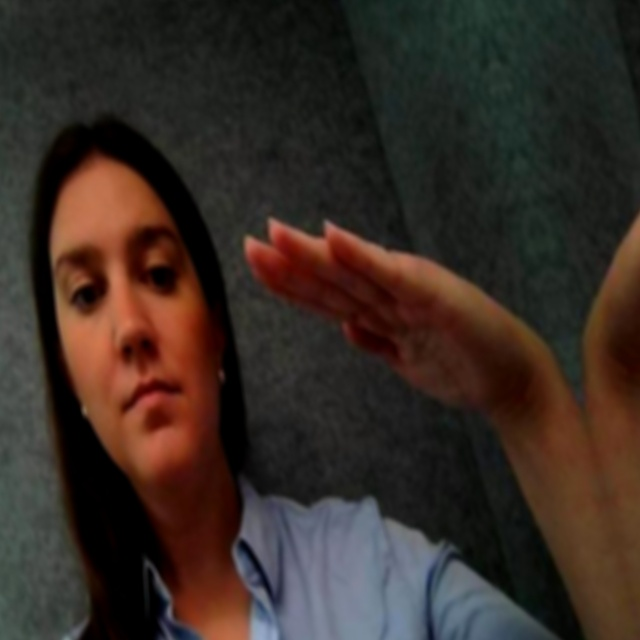Paper: (239, 148, 530, 466)
